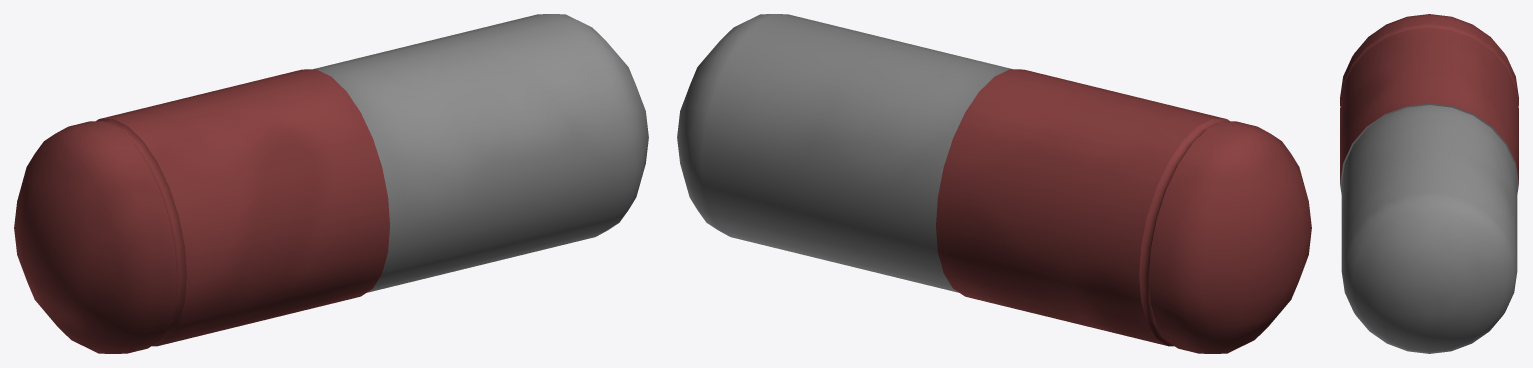
Rendered from Pastilla.fbx.
3 renders of one model, left to right at view 1: azimuth 30°, elevation 25°; view 2: azimuth 150°, elevation 25°; view 3: azimuth 270°, elevation 25°, orthographic. The views are drawn at different scales.
Visible parts, largest first — view 1: Pill4; view 2: Pill4; view 3: Pill4.
Part boxes in pixels (bbox=[...]): Pill4: bbox=[14, 14, 648, 353]; Pill4: bbox=[677, 14, 1311, 353]; Pill4: bbox=[1340, 14, 1518, 353].
Size of the model in its own units: 218 by 75.13 by 75.13.
